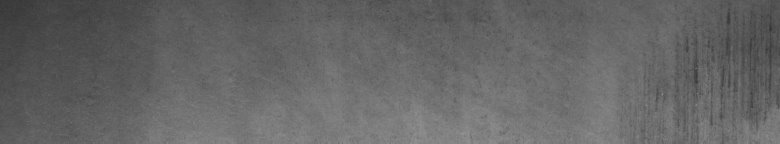ka: (656, 9, 776, 127)
